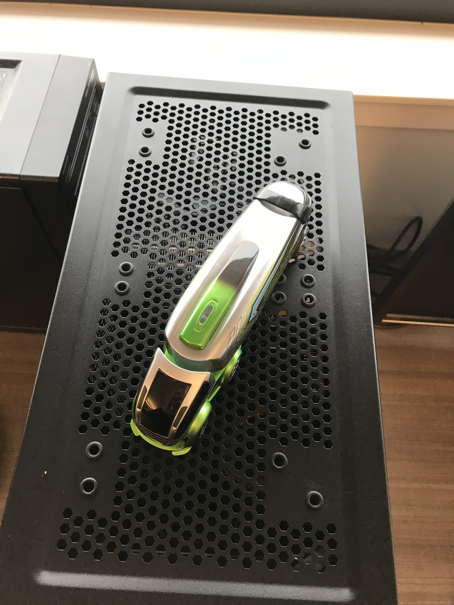Freewheel: (129, 180, 313, 456)
